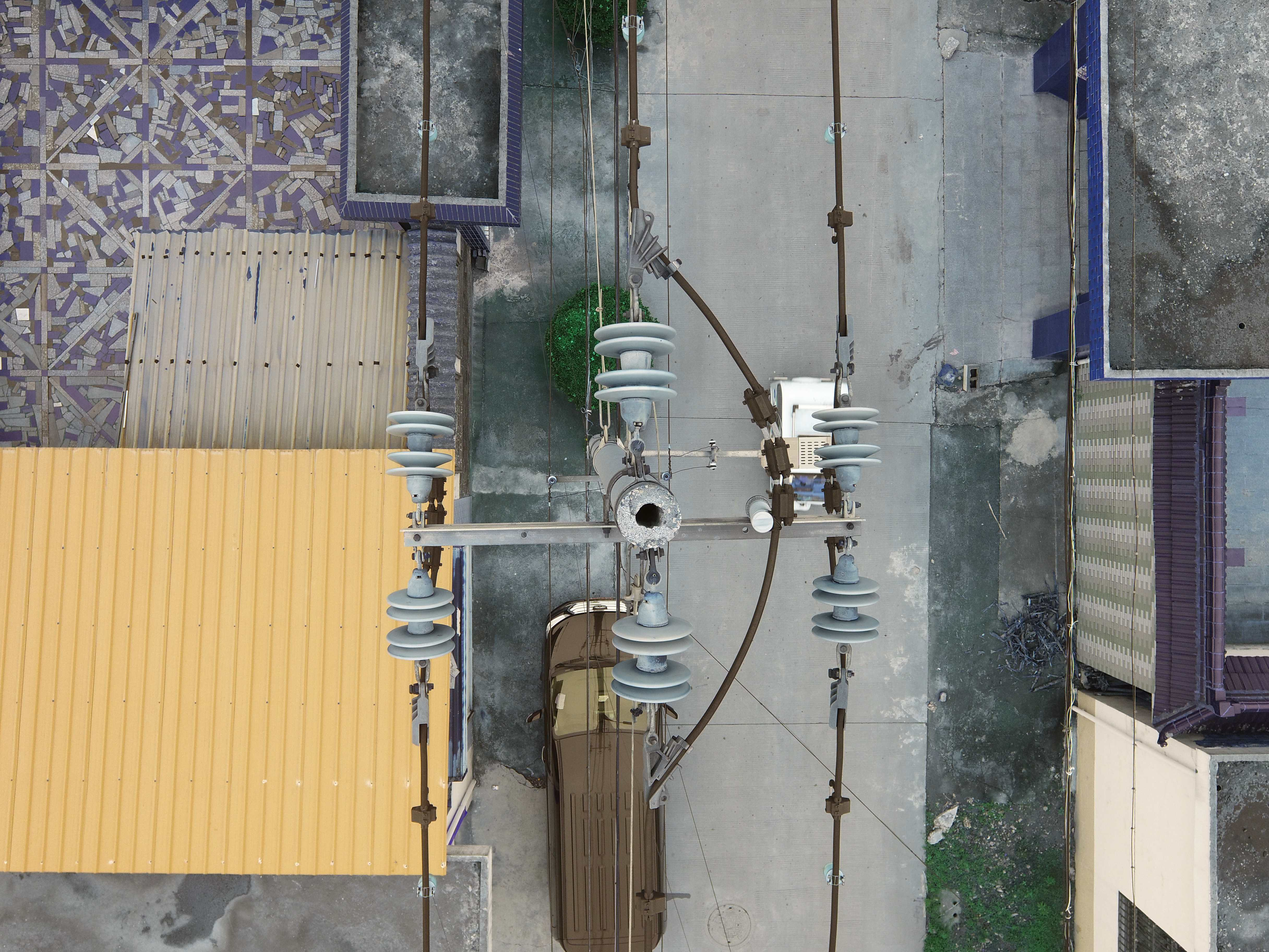severe_soiling_no_discharge_whole: (547, 475, 558, 485), (661, 472, 672, 481)
